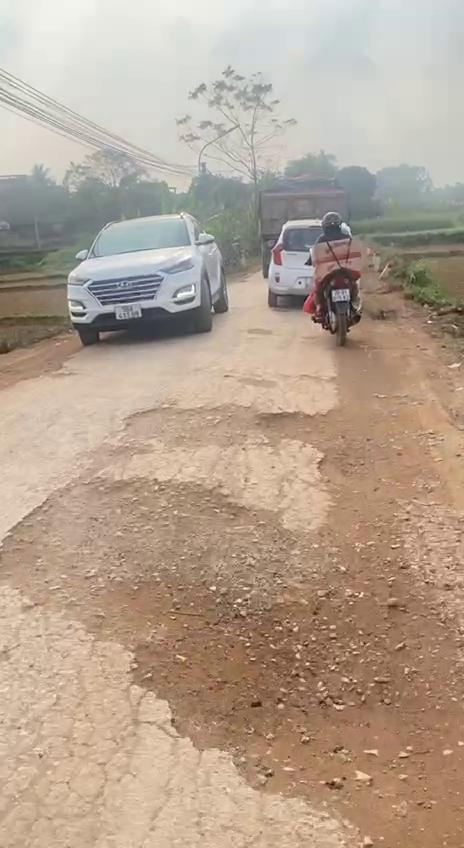pothole: (0, 467, 464, 848), (108, 398, 348, 481)
